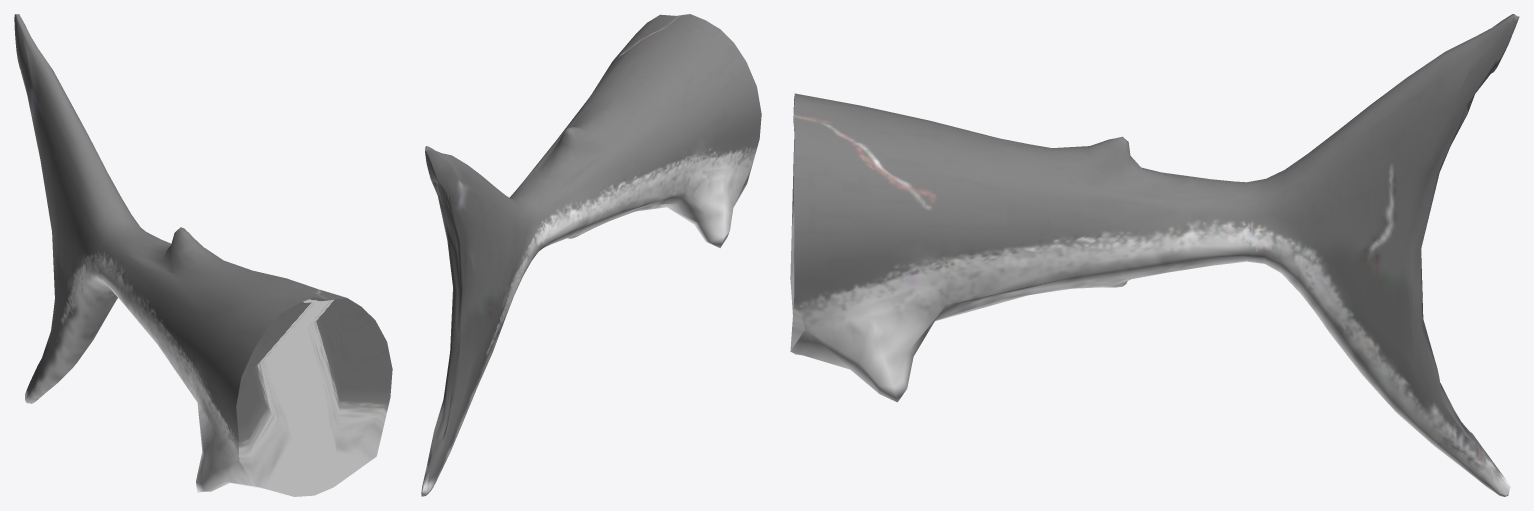
File: colaS.obj
3 views of the same model, side by side, from view 1: azimuth 30°, elevation 25°; view 2: azimuth 150°, elevation 25°; view 3: azimuth 270°, elevation 25° (orthographic). The views are drawn at different scales.
Visible parts, largest first — view 1: Shark_Mesh; view 2: Shark_Mesh; view 3: Shark_Mesh.
Boxes of the visible parts, x1,y1,x2,y2 form: Shark_Mesh: [14, 14, 392, 496]; Shark_Mesh: [421, 14, 761, 496]; Shark_Mesh: [790, 14, 1519, 496].
Size of the model in its own units: 61.01 by 145 by 200.
Materials: 1 (1 with a texture image).
